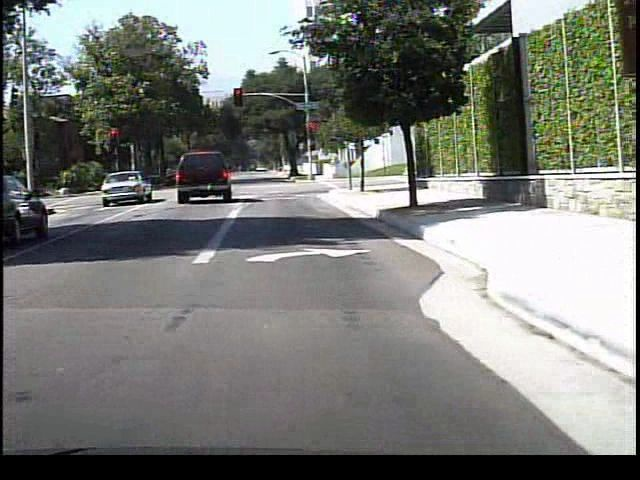person: (329, 151, 345, 179)
